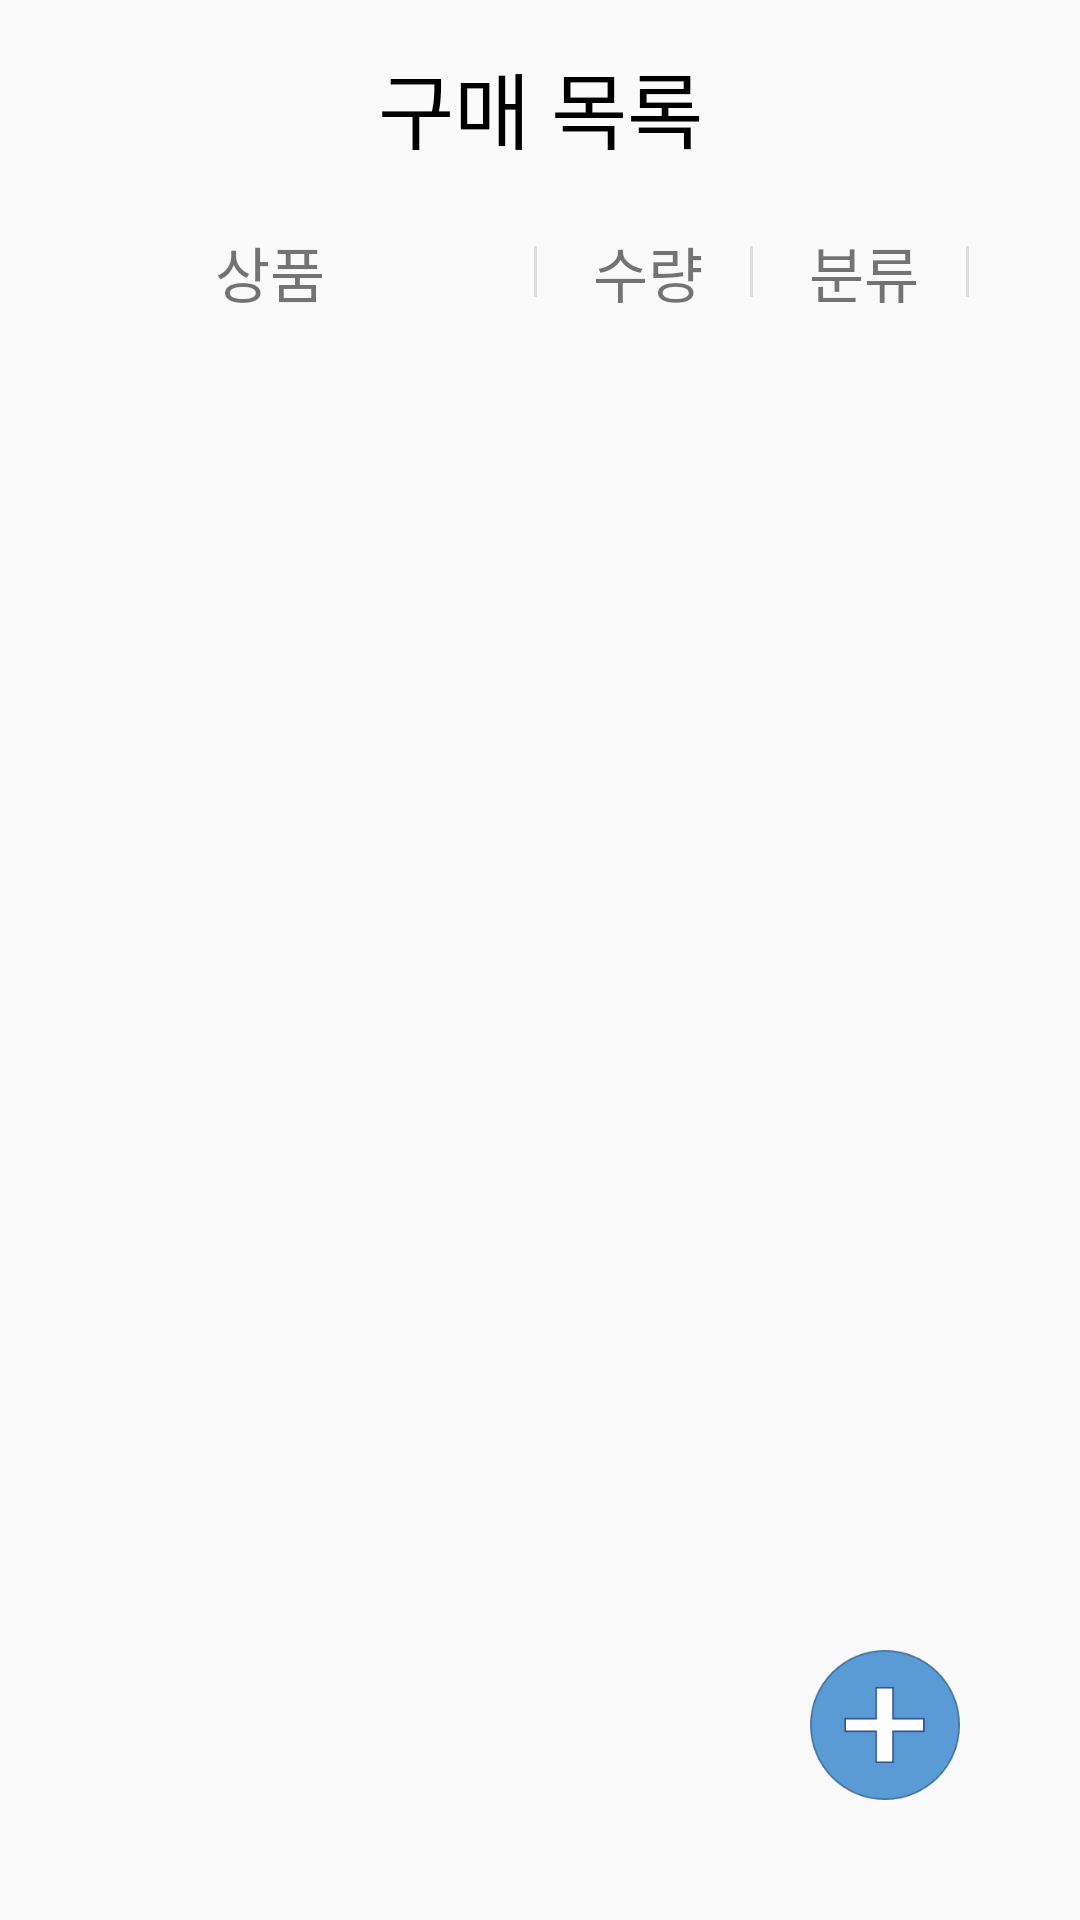

Screen size 1080x1920. Icon name, then its center in pixels as (x,y):
addbutton: (885,1725)
